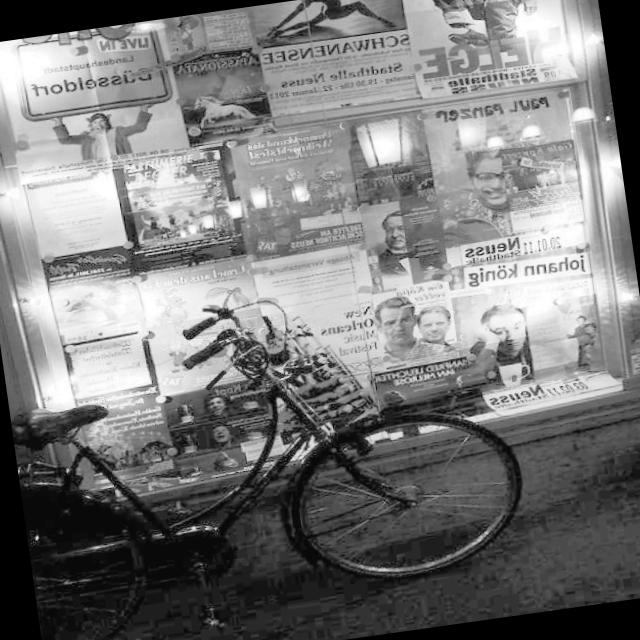Bicycle: (0, 236, 541, 633)
